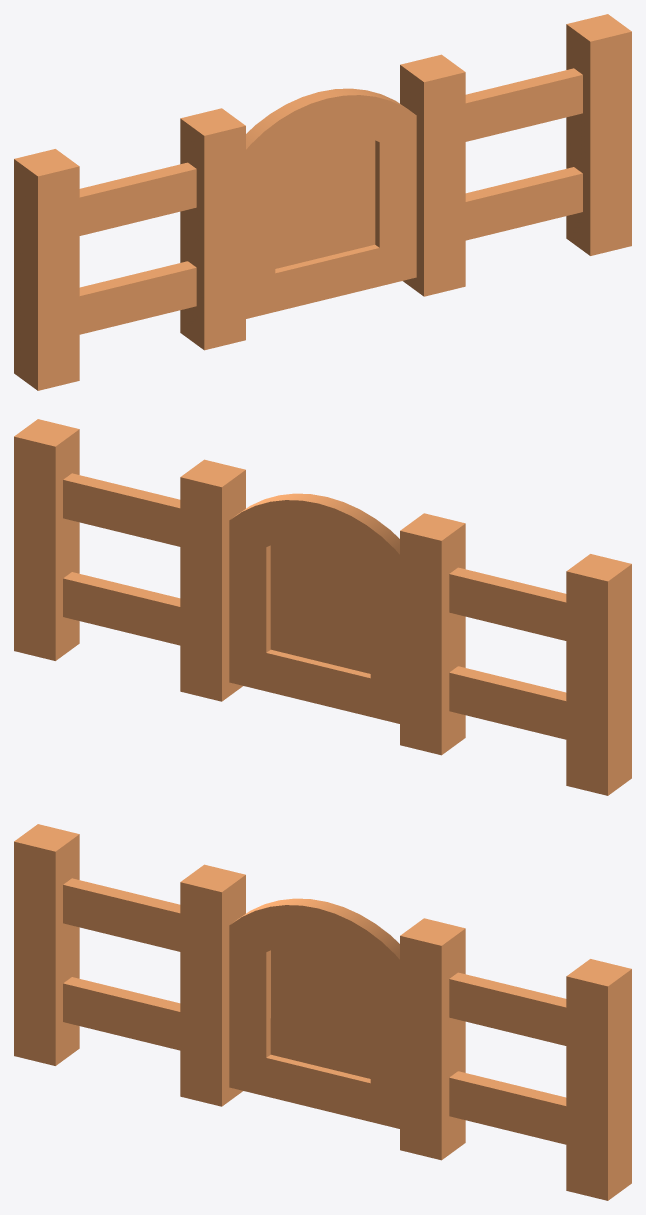
The model's file is fence_gate.obj.
3 views of the same model, one above another, from view 1: azimuth 30°, elevation 25°; view 2: azimuth 150°, elevation 25°; view 3: azimuth 330°, elevation 25° (orthographic).
Parts seen in each view (by area): view 1: fence_gate, gate; view 2: fence_gate, gate; view 3: fence_gate, gate.
Boxes of the visible parts, bbox=[...] form: fence_gate: bbox=[14, 14, 631, 390]; gate: bbox=[246, 88, 416, 318]; fence_gate: bbox=[14, 419, 631, 795]; gate: bbox=[229, 493, 399, 723]; fence_gate: bbox=[14, 824, 631, 1200]; gate: bbox=[229, 898, 399, 1128].
Size of the model in its own units: 10 by 3.45 by 0.7.
